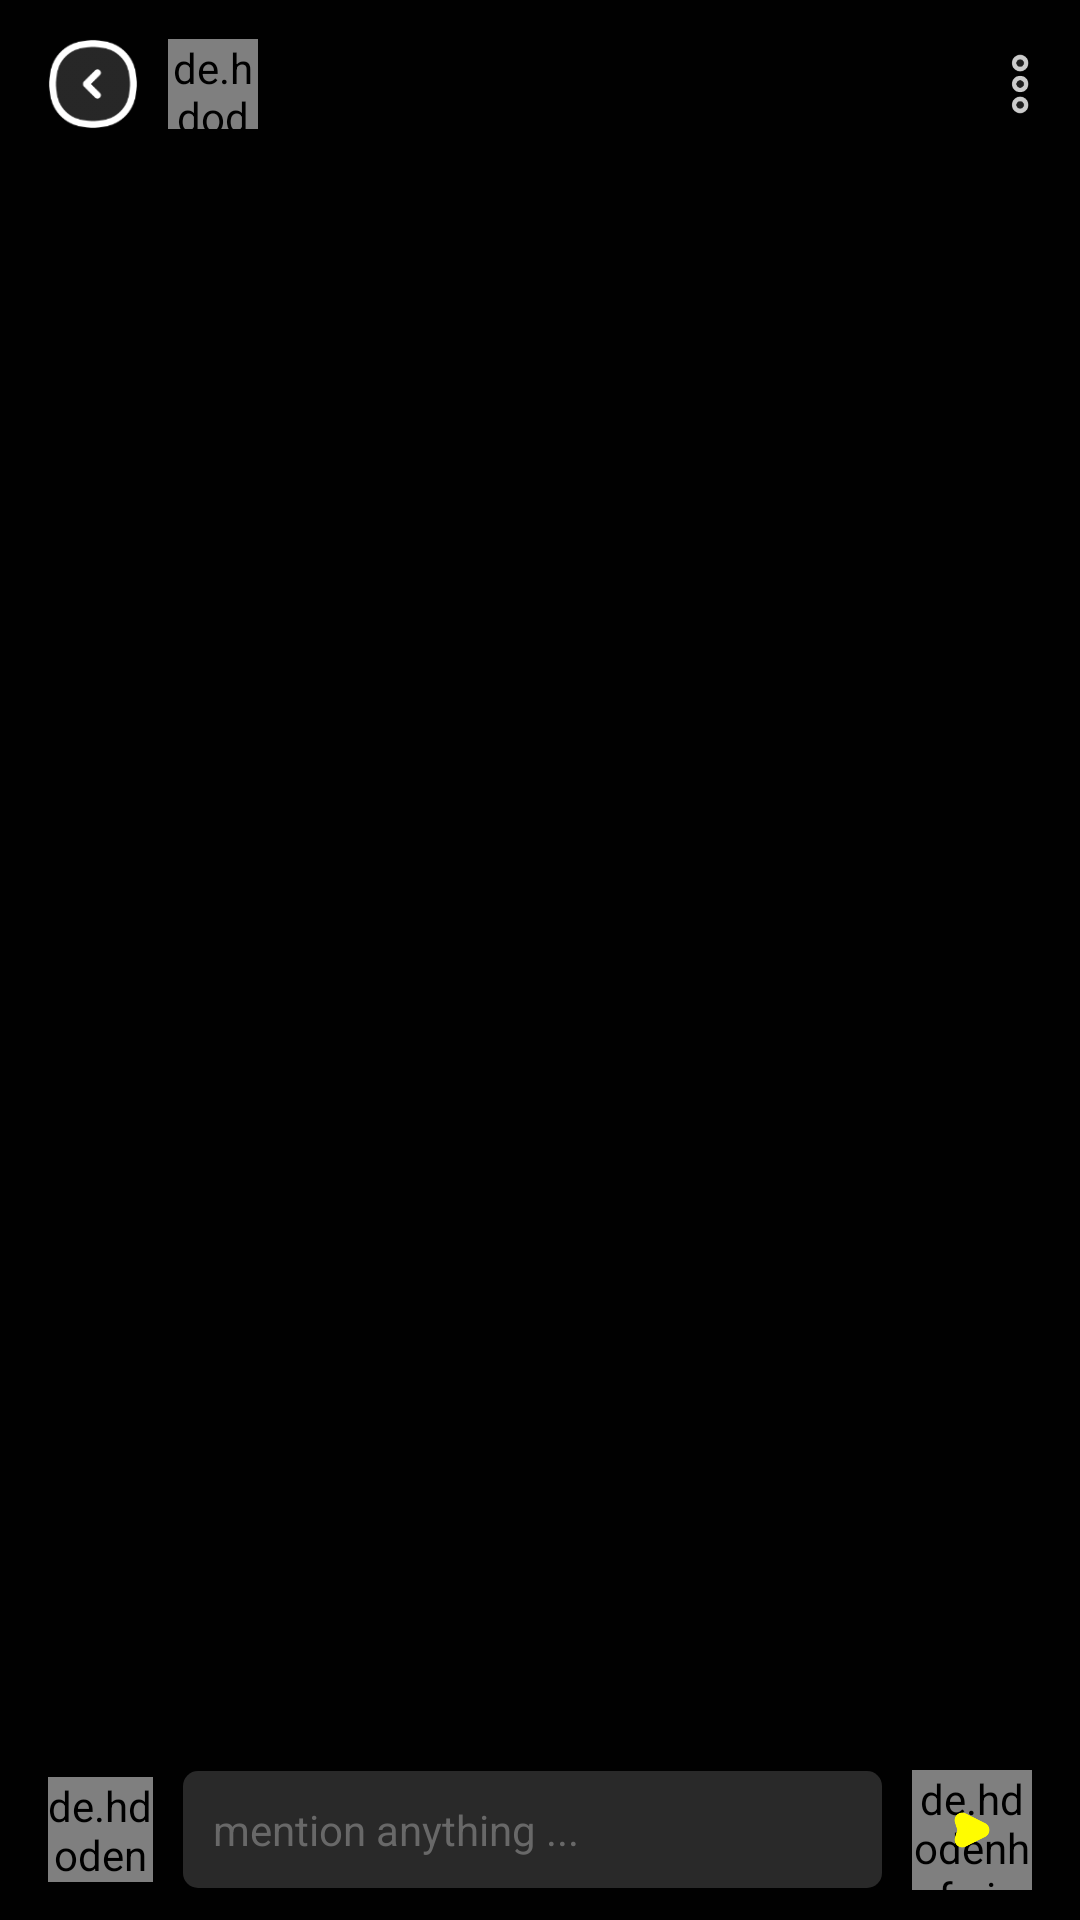

Point at icon controls on the screen. Image size 1080 x 1920, points as [x,y].
back: [93,84]
more: [1020,84]
